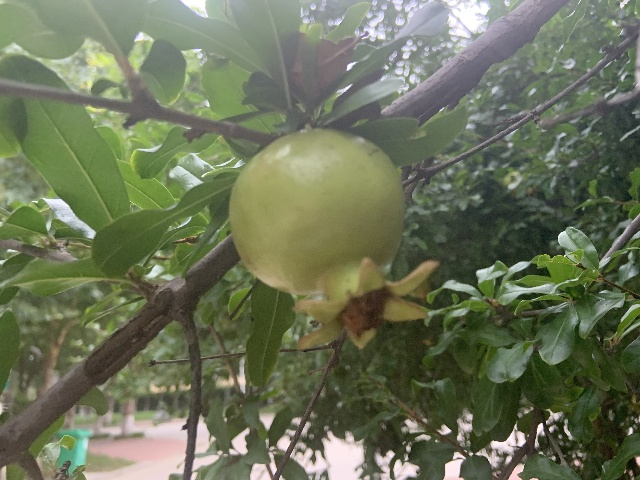mid-growth: (229, 130, 440, 351)
